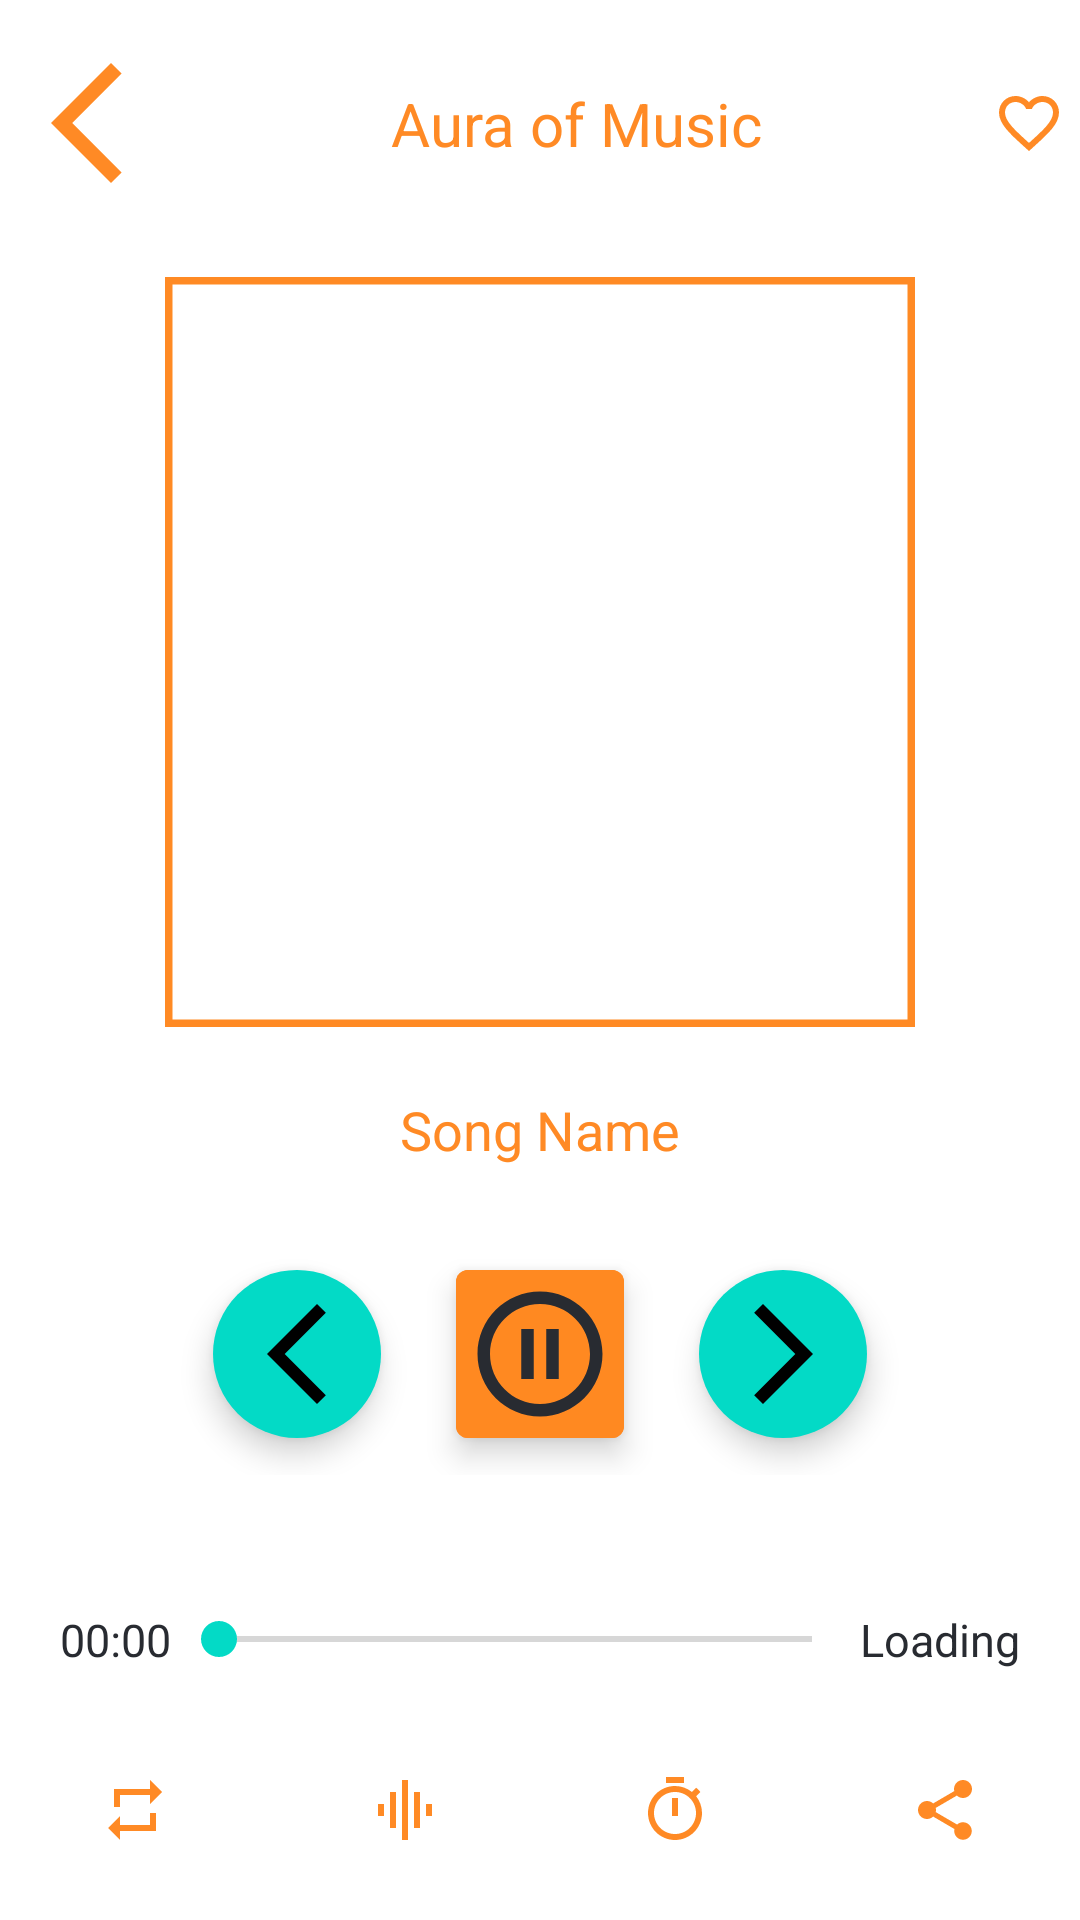

Where to tap for icons on this 1080*1920 app screen, as [x,y]:
arrow forward: [783,1354]
Back: [86,123]
Equalizer: [405,1810]
Favourites: [1029,123]
pause: [540,1354]
previous: [297,1354]
Repeat: [135,1810]
Share: [945,1810]
Timer: [675,1808]
